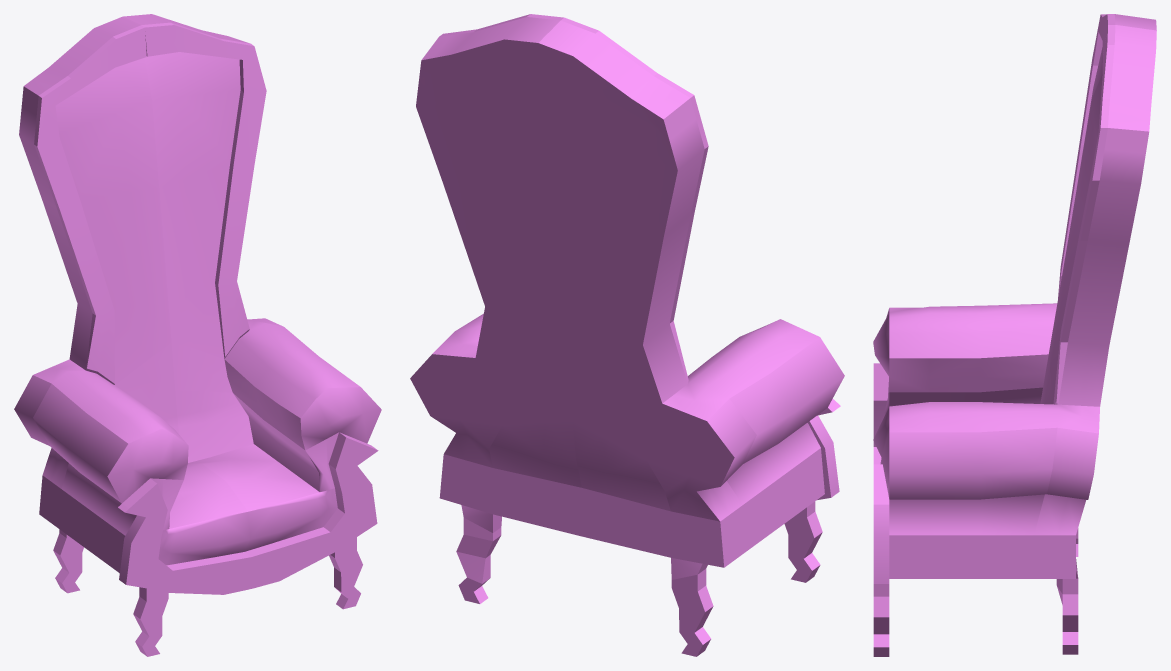
Rendered from armchair.FBX.
3 renders of one model, left to right at view 1: azimuth 30°, elevation 25°; view 2: azimuth 150°, elevation 25°; view 3: azimuth 270°, elevation 25°, orthographic. The views are drawn at different scales.
Visible parts, largest first — view 1: Armchair; view 2: Armchair; view 3: Armchair.
Part boxes in pixels (bbox=[...]): Armchair: bbox=[14, 14, 381, 656]; Armchair: bbox=[410, 14, 844, 656]; Armchair: bbox=[873, 14, 1156, 656].
Size of the model in its own units: 6.79 by 12.45 by 5.54.
